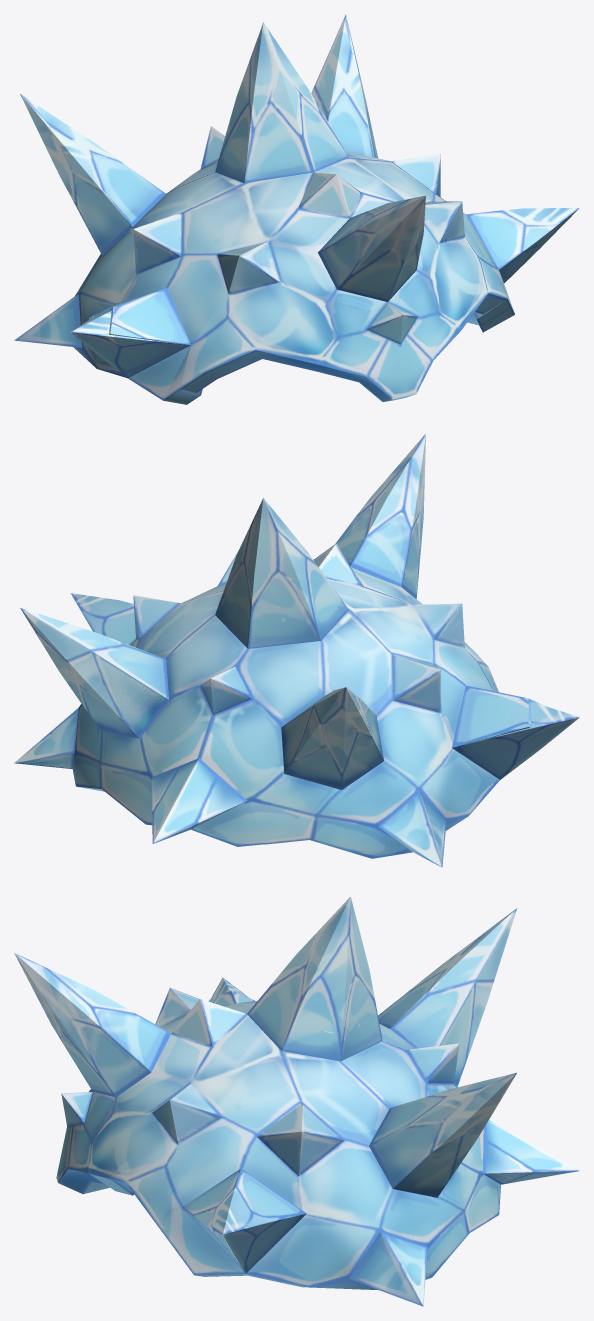
File: Slime_IceCone.fbx
3 views of the same model, one above another, from view 1: azimuth 30°, elevation 25°; view 2: azimuth 150°, elevation 25°; view 3: azimuth 270°, elevation 25° (orthographic). The views are drawn at different scales.
Visible parts, largest first — view 1: Ice01, Ice02; view 2: Ice01, Ice02; view 3: Ice01, Ice02.
Boxes of the visible parts, left/top/right/bottom form: Ice01: left=14, top=14, right=579, bottom=401; Ice02: left=46, top=64, right=528, bottom=404; Ice01: left=14, top=433, right=579, bottom=867; Ice02: left=45, top=499, right=553, bottom=853; Ice01: left=14, top=896, right=579, bottom=1306; Ice02: left=46, top=965, right=494, bottom=1287.
Bounding box in the file's own units: 6.66 × 3.85 × 6.19.
1 material, 1 textured.
